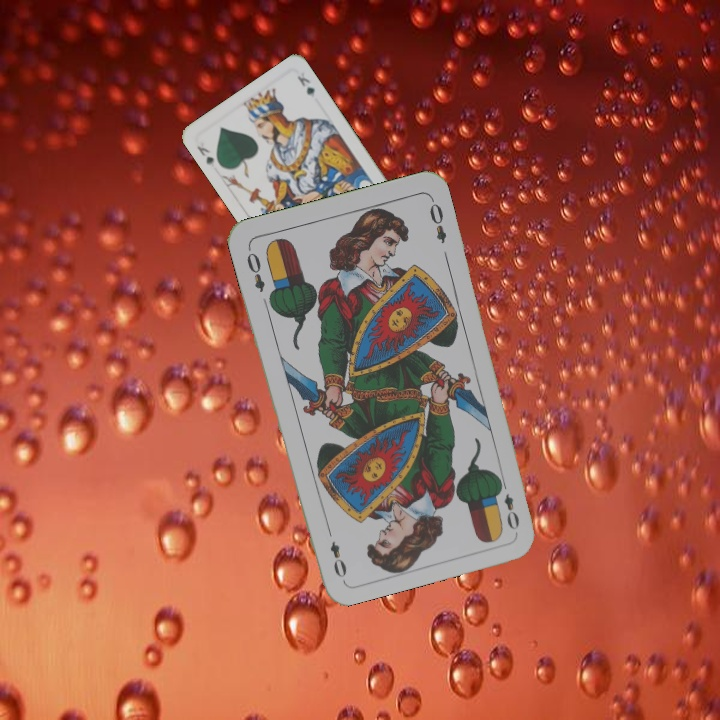EO: (494, 475, 522, 533), (242, 243, 268, 295)
GK: (193, 138, 217, 168)
